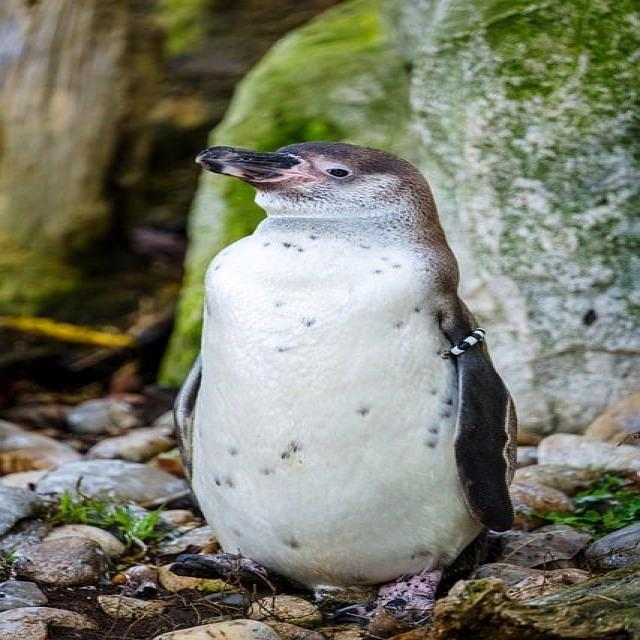Carnivorous: (174, 142, 519, 593)
